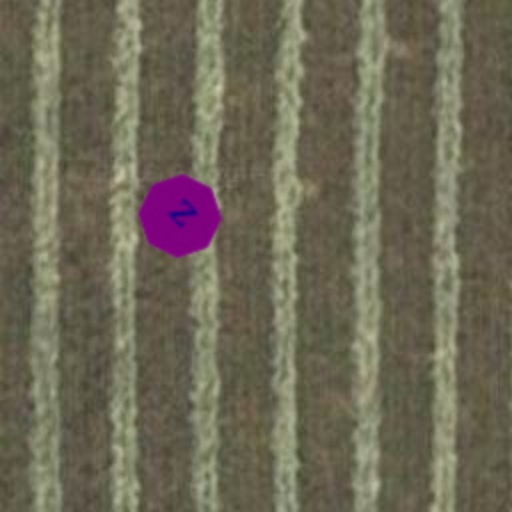octagon: (120, 156, 240, 276)
